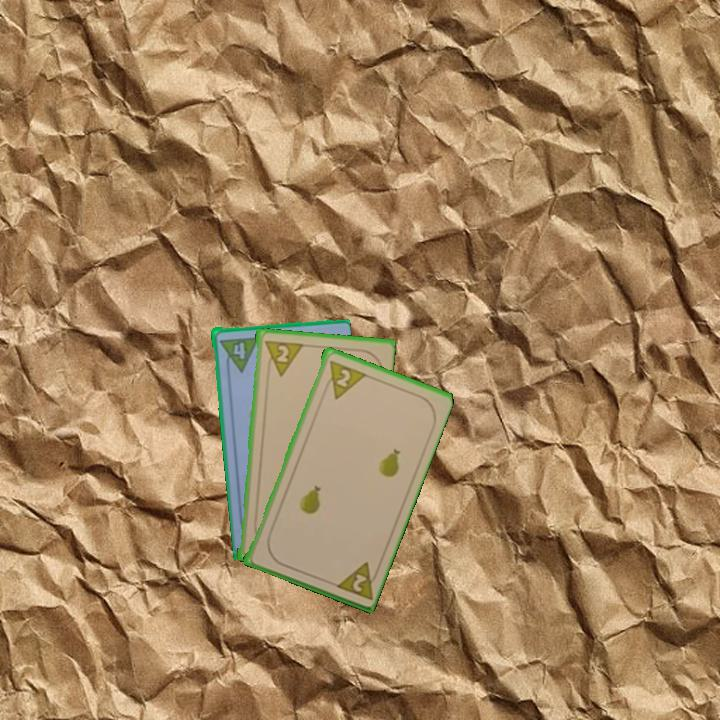2p: (330, 558, 382, 602), (320, 356, 367, 402), (260, 336, 304, 379)
4p: (216, 333, 260, 375)
